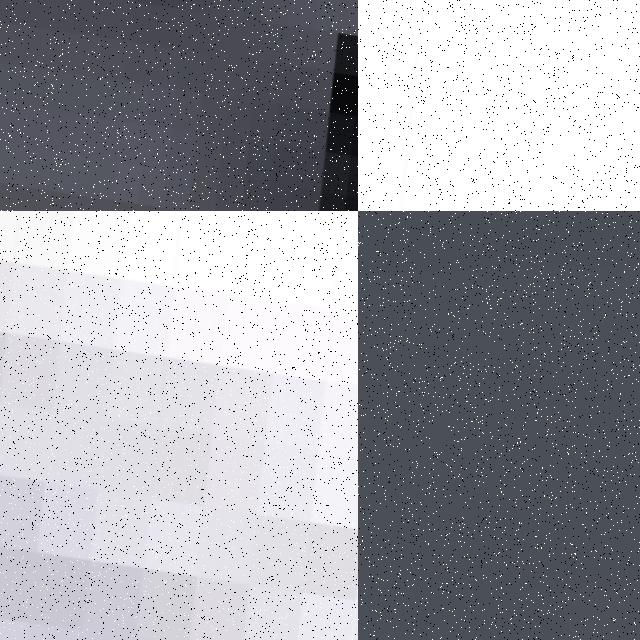0: (0, 0, 358, 211)
drone: (0, 211, 358, 640), (358, 0, 640, 211)
